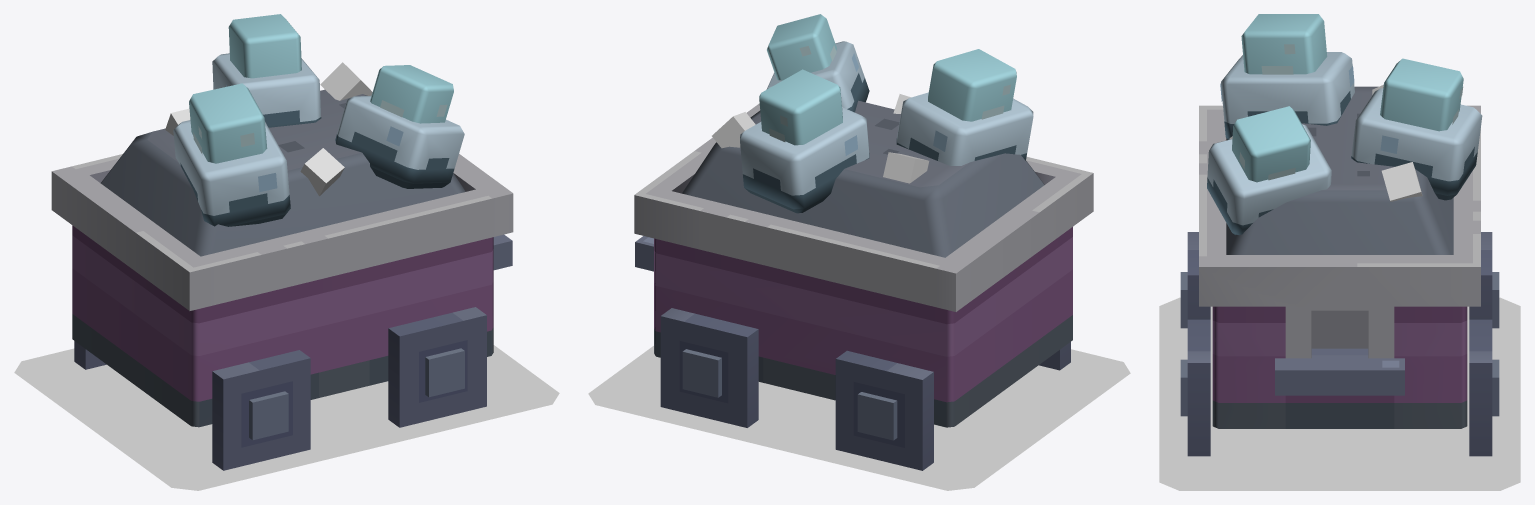
File: GG_makeover_S_mine_2.fbx
3 views of the same model, side by side, from view 1: azimuth 30°, elevation 25°; view 2: azimuth 150°, elevation 25°; view 3: azimuth 270°, elevation 25° (orthographic). The views are drawn at different scales.
Visible parts, largest first — view 1: model1, ground, model, model2, model8, model10, model9, model5, model6, model3; view 2: model1, ground, model2, model, model9, model8, model10, model4, model6, model3; view 3: model1, ground, model2, model9, model8, model, model10, model3, model6.
Part boxes in pixels (x1,y1,x2,y2): model1: [51, 154, 513, 427]; ground: [14, 345, 559, 490]; model: [74, 307, 486, 470]; model2: [100, 89, 465, 256]; model8: [173, 83, 290, 226]; model10: [335, 65, 464, 188]; model9: [212, 14, 321, 127]; model5: [300, 148, 344, 196]; model6: [320, 62, 372, 100]; model3: [493, 234, 512, 270]; model1: [634, 103, 1093, 427]; ground: [588, 346, 1130, 490]; model2: [682, 100, 1044, 257]; model: [660, 308, 1070, 470]; model9: [740, 69, 869, 213]; model8: [896, 49, 1033, 165]; model10: [766, 14, 869, 112]; model4: [883, 152, 929, 183]; model6: [712, 112, 755, 148]; model3: [635, 236, 653, 271]; model1: [1199, 105, 1480, 428]; ground: [1159, 297, 1520, 490]; model2: [1226, 86, 1453, 254]; model9: [1351, 58, 1482, 200]; model8: [1220, 14, 1354, 139]; model: [1180, 232, 1499, 456]; model10: [1207, 106, 1331, 235]; model3: [1275, 348, 1404, 395]; model6: [1381, 162, 1422, 201].
Size of the model in its own units: 5.33 by 4.29 by 4.21.
